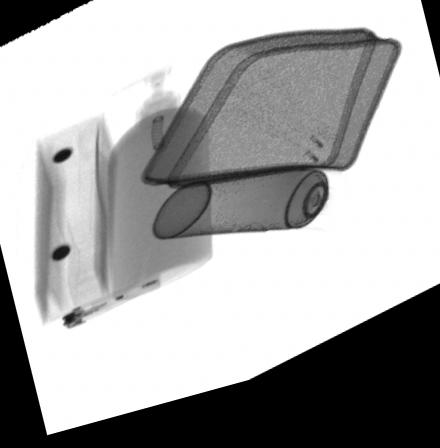Lighter: (58, 280, 161, 336)
Sprayer: (151, 184, 373, 251)
